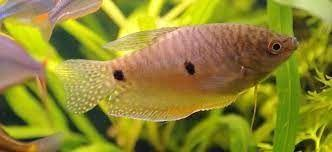Gourami: (56, 23, 300, 133)
